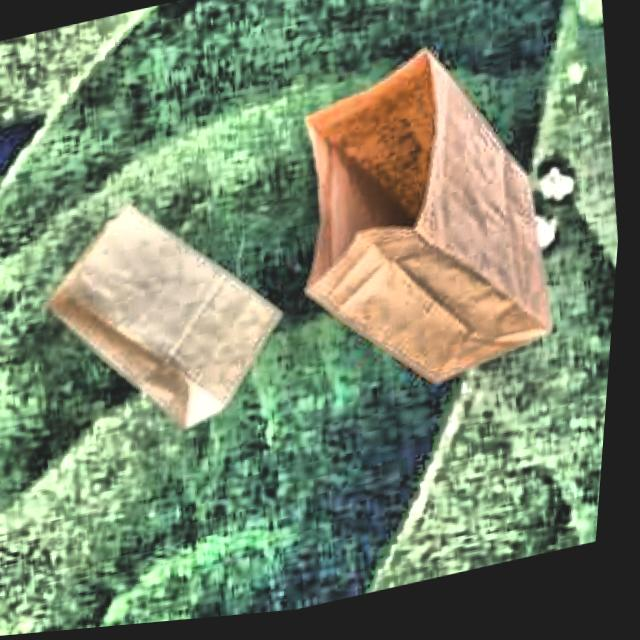Paper-bag: (260, 46, 595, 430), (43, 168, 308, 479)
